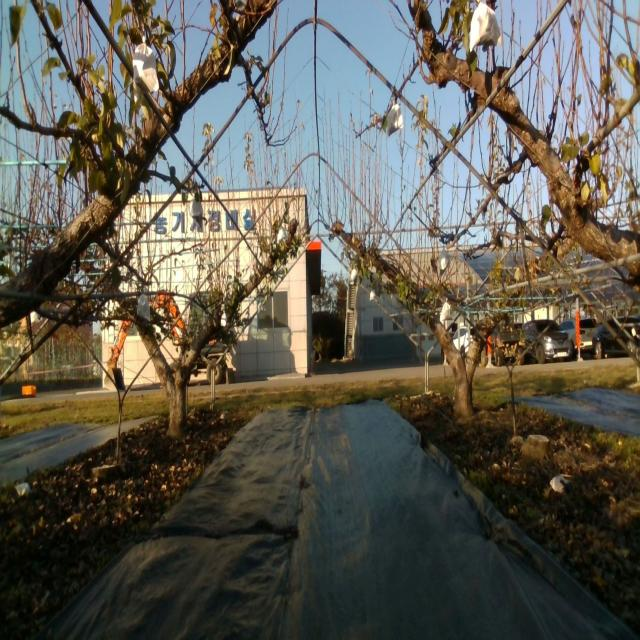pearbags: (470, 0, 502, 52), (132, 36, 160, 92), (386, 97, 404, 136), (188, 197, 203, 230), (136, 294, 151, 323), (439, 298, 454, 322), (439, 248, 450, 276)
